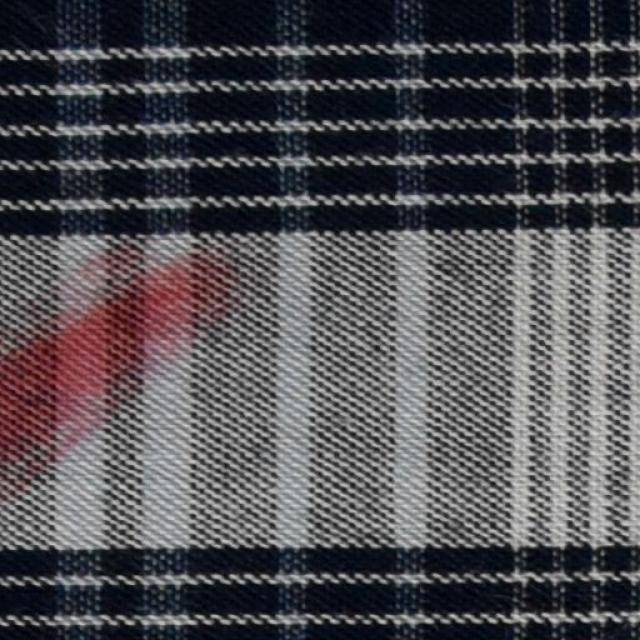Stain: (0, 263, 221, 490)
